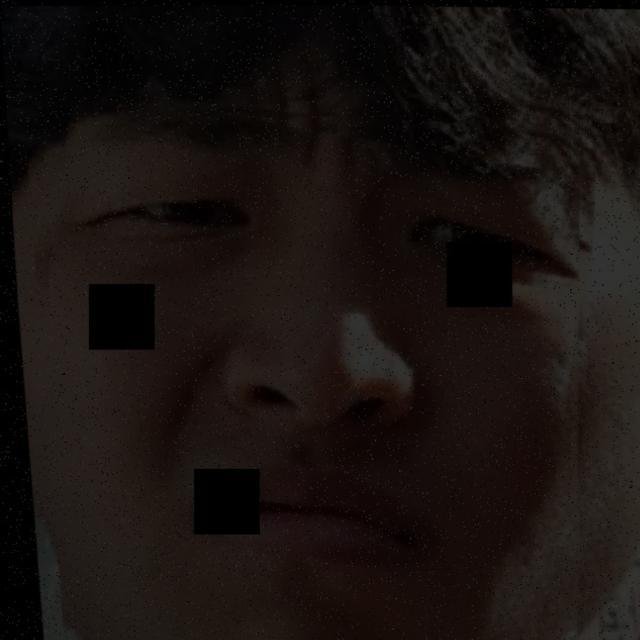Disgust: (43, 47, 640, 604)
